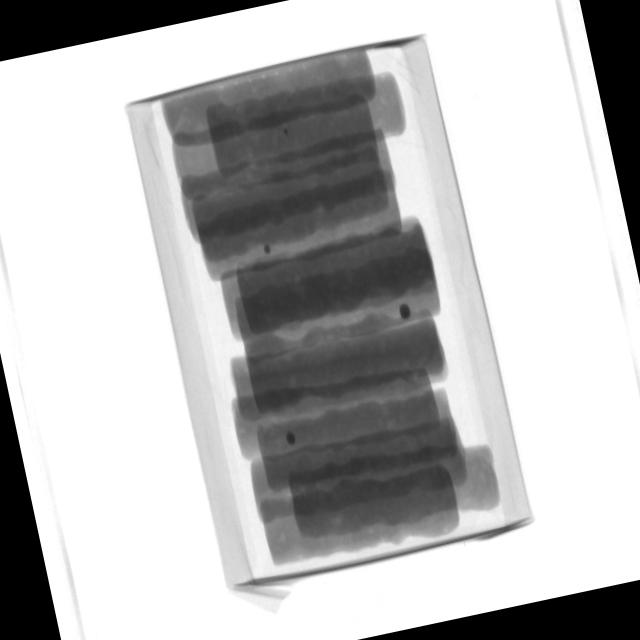ym: (398, 302, 413, 321), (287, 430, 299, 446), (263, 244, 273, 255), (283, 126, 289, 133)
